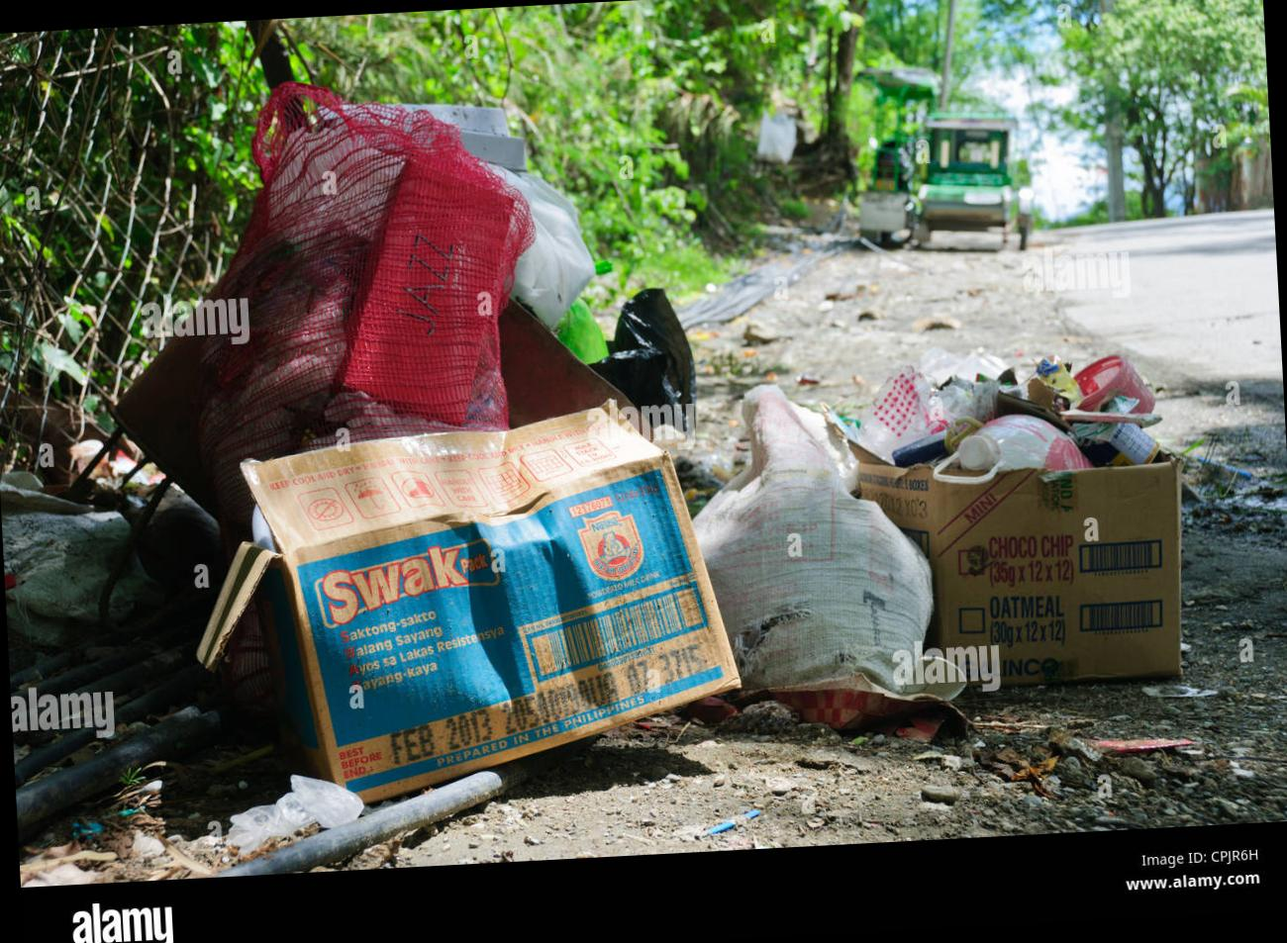road: (1044, 208, 1283, 385)
trash: (200, 401, 737, 800), (198, 83, 535, 542), (860, 455, 1183, 685), (694, 385, 933, 694), (935, 414, 1091, 482), (859, 365, 948, 461), (1074, 354, 1156, 414), (936, 376, 999, 422), (1110, 422, 1158, 464), (1072, 422, 1119, 447)
